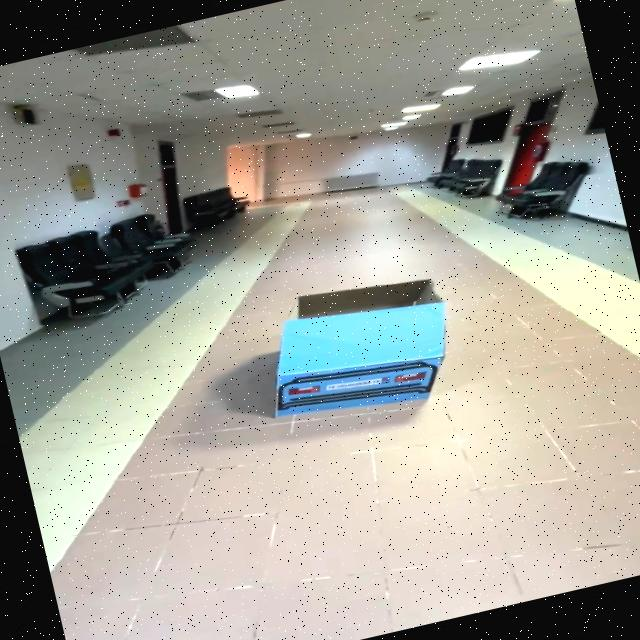blue_car: (204, 243, 497, 450)
